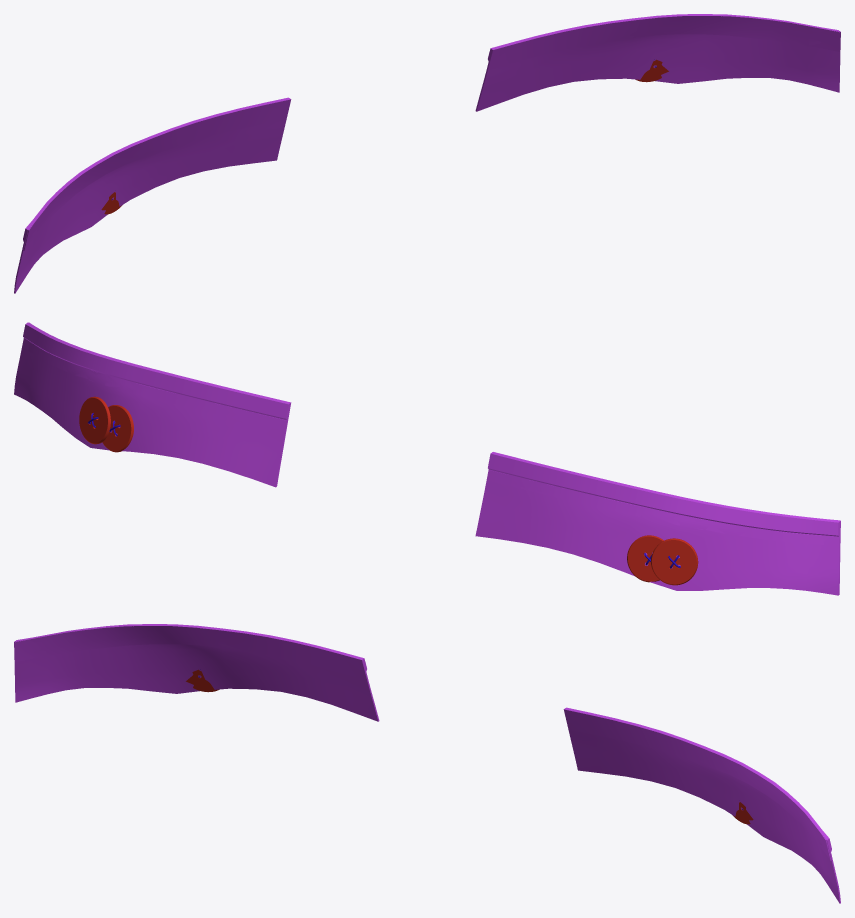
Rendered from SM_CarlosSA_Trousers_Fixed_1.fbx_Back_Pockets.fbx.
3 renders of one model, top to bottom at view 1: azimuth 30°, elevation 25°; view 2: azimuth 150°, elevation 25°; view 3: azimuth 330°, elevation 25°, orthographic.
Parts seen in each view (by area): view 1: SM_CarlosSA_Trousers_BackPockets_2FlapsB, SM_CarlosSA_Trousers_BackPockets_2Revolver; view 2: SM_CarlosSA_Trousers_BackPockets_2FlapsB, SM_CarlosSA_Trousers_BackPockets_2Revolver; view 3: SM_CarlosSA_Trousers_BackPockets_2FlapsB, SM_CarlosSA_Trousers_BackPockets_2Revolver.
Part boxes in pixels (x1=…): SM_CarlosSA_Trousers_BackPockets_2FlapsB: x1=14, y1=14, x2=840, y2=293; SM_CarlosSA_Trousers_BackPockets_2Revolver: x1=23, y1=15, x2=840, y2=250; SM_CarlosSA_Trousers_BackPockets_2FlapsB: x1=14, y1=322, x2=840, y2=595; SM_CarlosSA_Trousers_BackPockets_2Revolver: x1=28, y1=322, x2=839, y2=582; SM_CarlosSA_Trousers_BackPockets_2FlapsB: x1=14, y1=624, x2=840, y2=903; SM_CarlosSA_Trousers_BackPockets_2Revolver: x1=14, y1=625, x2=831, y2=860.
Size of the model in its own units: 24.07 by 2.6 by 3.02.
